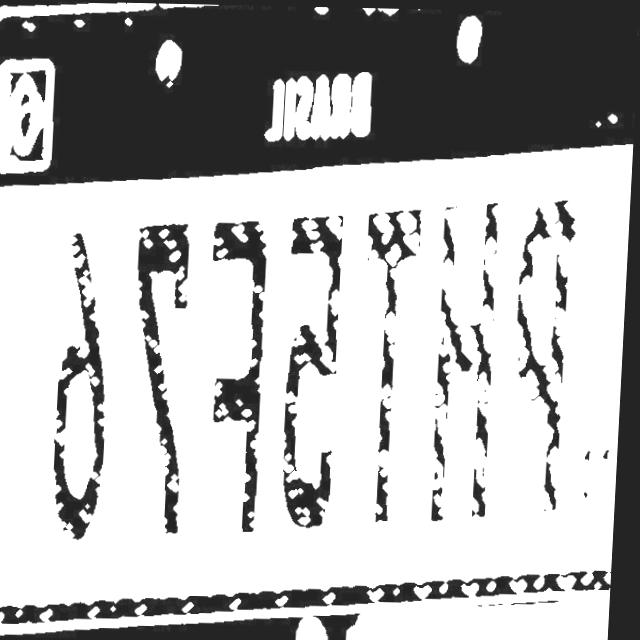5: (278, 213, 353, 544)
6: (37, 228, 122, 539)
7: (117, 223, 207, 537)
f: (191, 220, 286, 539)
h: (419, 199, 510, 529)
p: (505, 193, 582, 519)
t: (344, 204, 431, 528)
